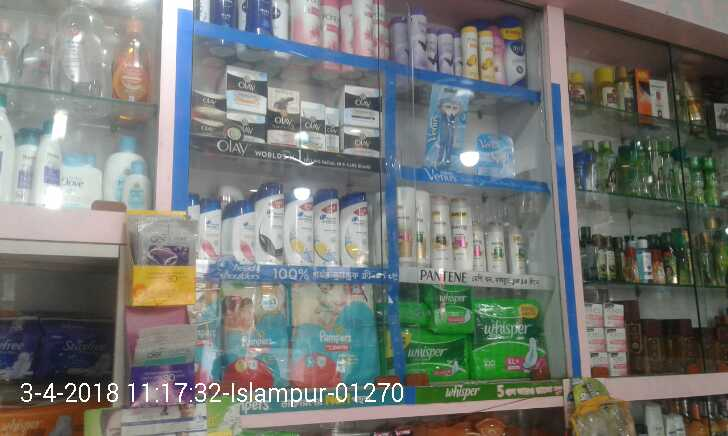venus: (423, 82, 471, 169), (478, 133, 515, 177)
